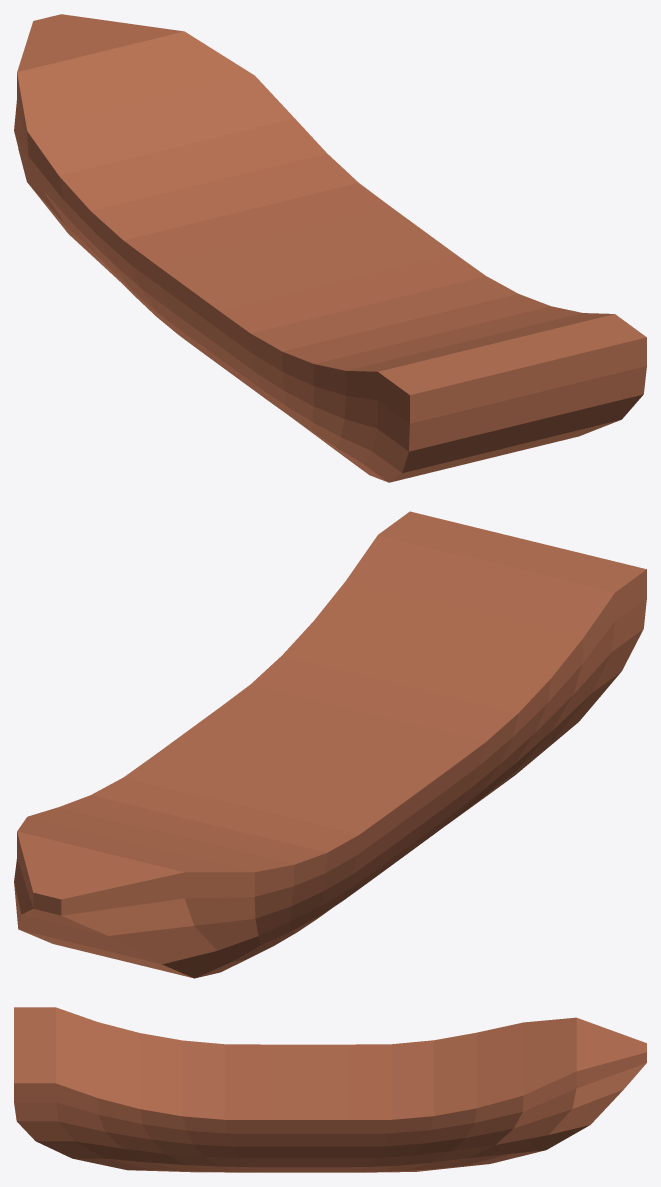
Rendered from Barco.Blockign.Proyectountitled.fbx.
3 renders of one model, top to bottom at view 1: azimuth 30°, elevation 25°; view 2: azimuth 150°, elevation 25°; view 3: azimuth 270°, elevation 25°, orthographic. The views are drawn at different scales.
Visible parts, largest first — view 1: Cube; view 2: Cube; view 3: Cube.
Part boxes in pixels (x1,y1,x2,y2): Cube: [14, 14, 646, 482]; Cube: [14, 511, 646, 978]; Cube: [14, 1007, 646, 1172].
Bounding box in the file's own units: 544 × 381 × 1913.
1 material, 1 textured.
